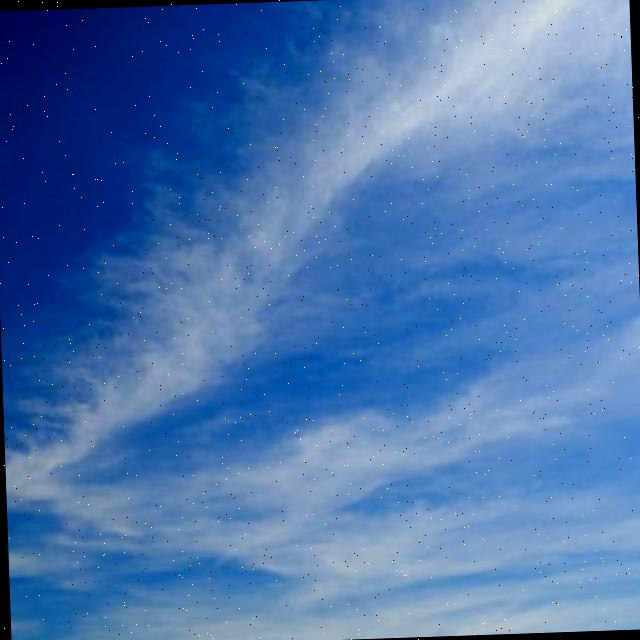Ci: (1, 1, 640, 609)
